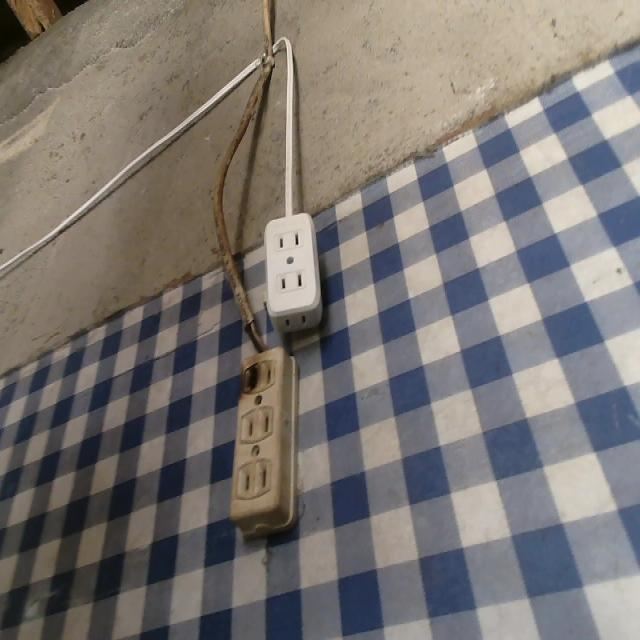-: (237, 360, 266, 391)
